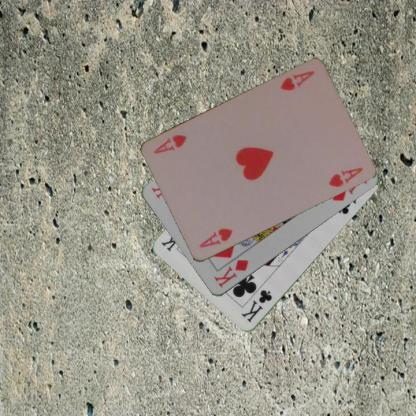Ah: (277, 68, 315, 93), (196, 226, 234, 250)
Kc: (238, 287, 274, 324)
Kd: (212, 257, 249, 289)
